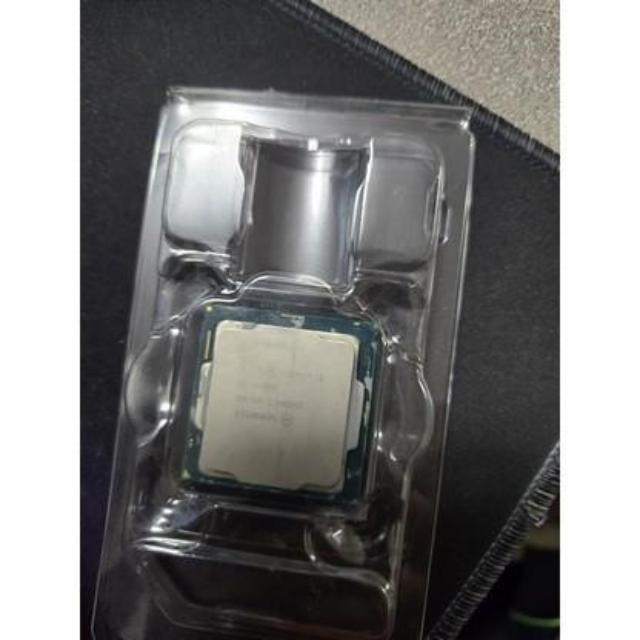CPU: (188, 313, 356, 496)
